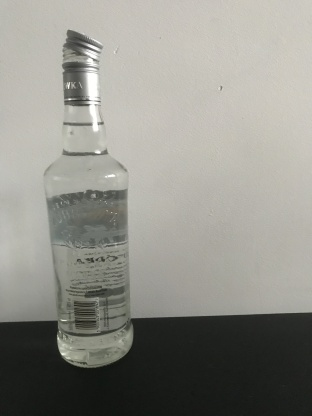nakretka: (60, 26, 104, 106)
